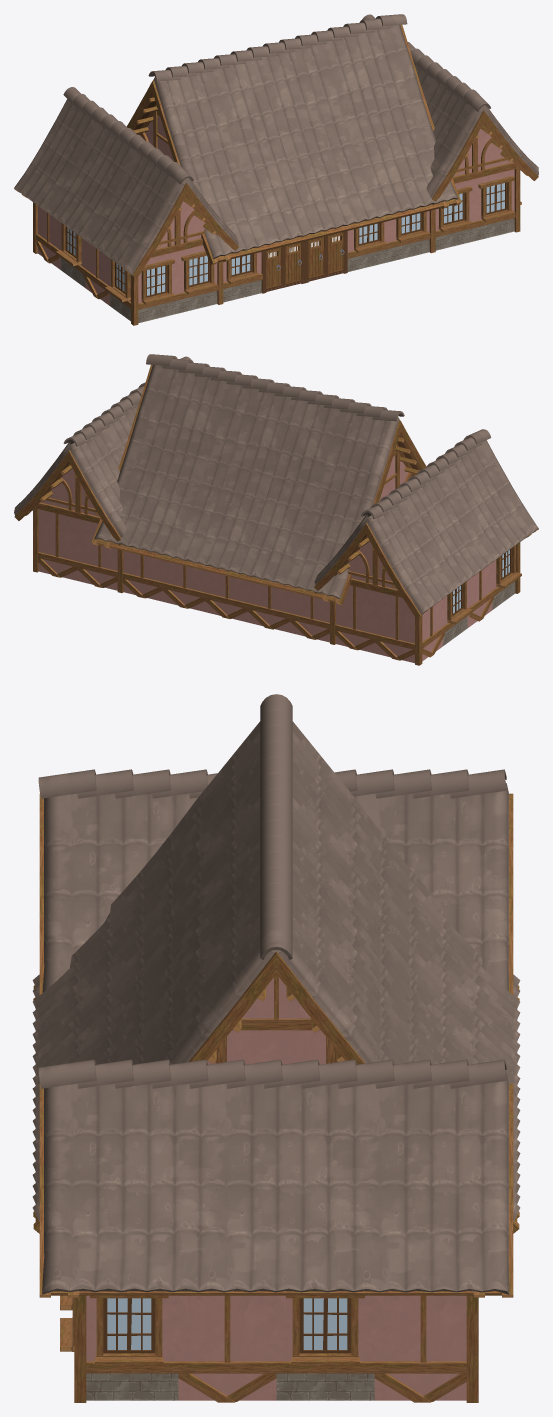
The model's file is warehouse.glb.
3 views of the same model, one above another, from view 1: azimuth 30°, elevation 25°; view 2: azimuth 150°, elevation 25°; view 3: azimuth 270°, elevation 25° (orthographic). The views are drawn at different scales.
Parts seen in each view (by area): view 1: Roof_RoundTiles_4x8, Wall_Plaster_Window_Wide_Flat, Window_Wide_Flat1, Roof_Front_Brick4; view 2: Roof_RoundTiles_4x8, Wall_Plaster_Window_Wide_Flat, Window_Wide_Flat1, Roof_Front_Brick4; view 3: Roof_RoundTiles_4x8, Wall_Plaster_Window_Wide_Flat, Window_Wide_Flat1, Roof_Front_Brick4.
Boxes of the visible parts, x1,y1,x2,y2 form: Roof_RoundTiles_4x8: (14,14,538,274); Wall_Plaster_Window_Wide_Flat: (14,25,538,323); Window_Wide_Flat1: (33,97,521,325); Roof_Front_Brick4: (141,115,512,249); Roof_RoundTiles_4x8: (14,354,538,614); Wall_Plaster_Window_Wide_Flat: (14,364,538,663); Window_Wide_Flat1: (33,437,521,665); Roof_Front_Brick4: (40,455,408,589); Roof_RoundTiles_4x8: (32,694,520,1294); Wall_Plaster_Window_Wide_Flat: (33,793,519,1402); Window_Wide_Flat1: (60,974,478,1402); Roof_Front_Brick4: (207,977,345,1064).
Bounding box in the file's own units: 19.51 × 9 × 9.95.
6 materials, 5 textured.
